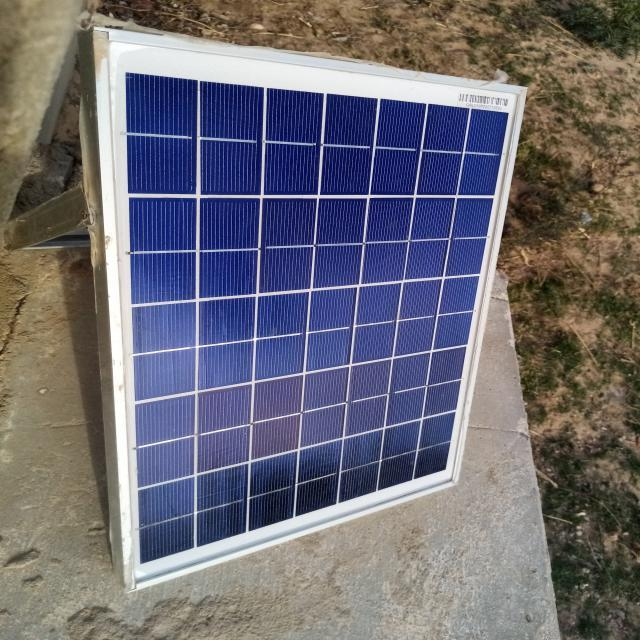no faulty: (101, 22, 529, 589)
